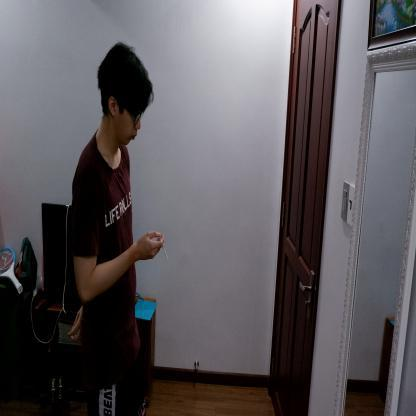cigarette: (161, 243, 169, 261)
person: (69, 39, 158, 415)
